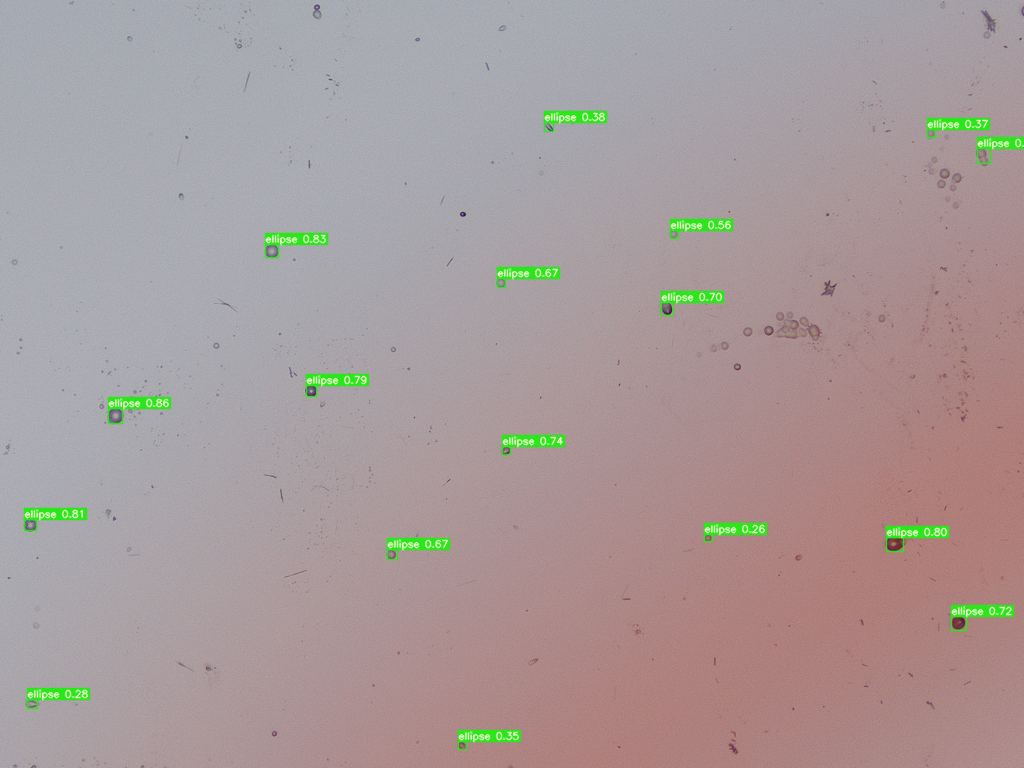circle: (264, 243, 278, 258), (304, 384, 317, 397), (951, 616, 964, 629), (24, 518, 36, 530), (386, 549, 395, 559), (496, 278, 505, 287), (669, 229, 677, 237), (704, 534, 711, 541), (734, 363, 740, 370), (390, 346, 396, 352), (213, 342, 219, 348), (11, 259, 17, 265)
ellipse: (885, 537, 907, 551), (108, 409, 121, 423), (24, 699, 39, 709), (661, 302, 672, 315), (544, 122, 553, 132), (313, 11, 321, 18), (497, 25, 506, 31), (458, 742, 465, 749), (795, 554, 803, 560), (313, 4, 320, 10), (178, 193, 183, 201), (459, 212, 466, 217)
